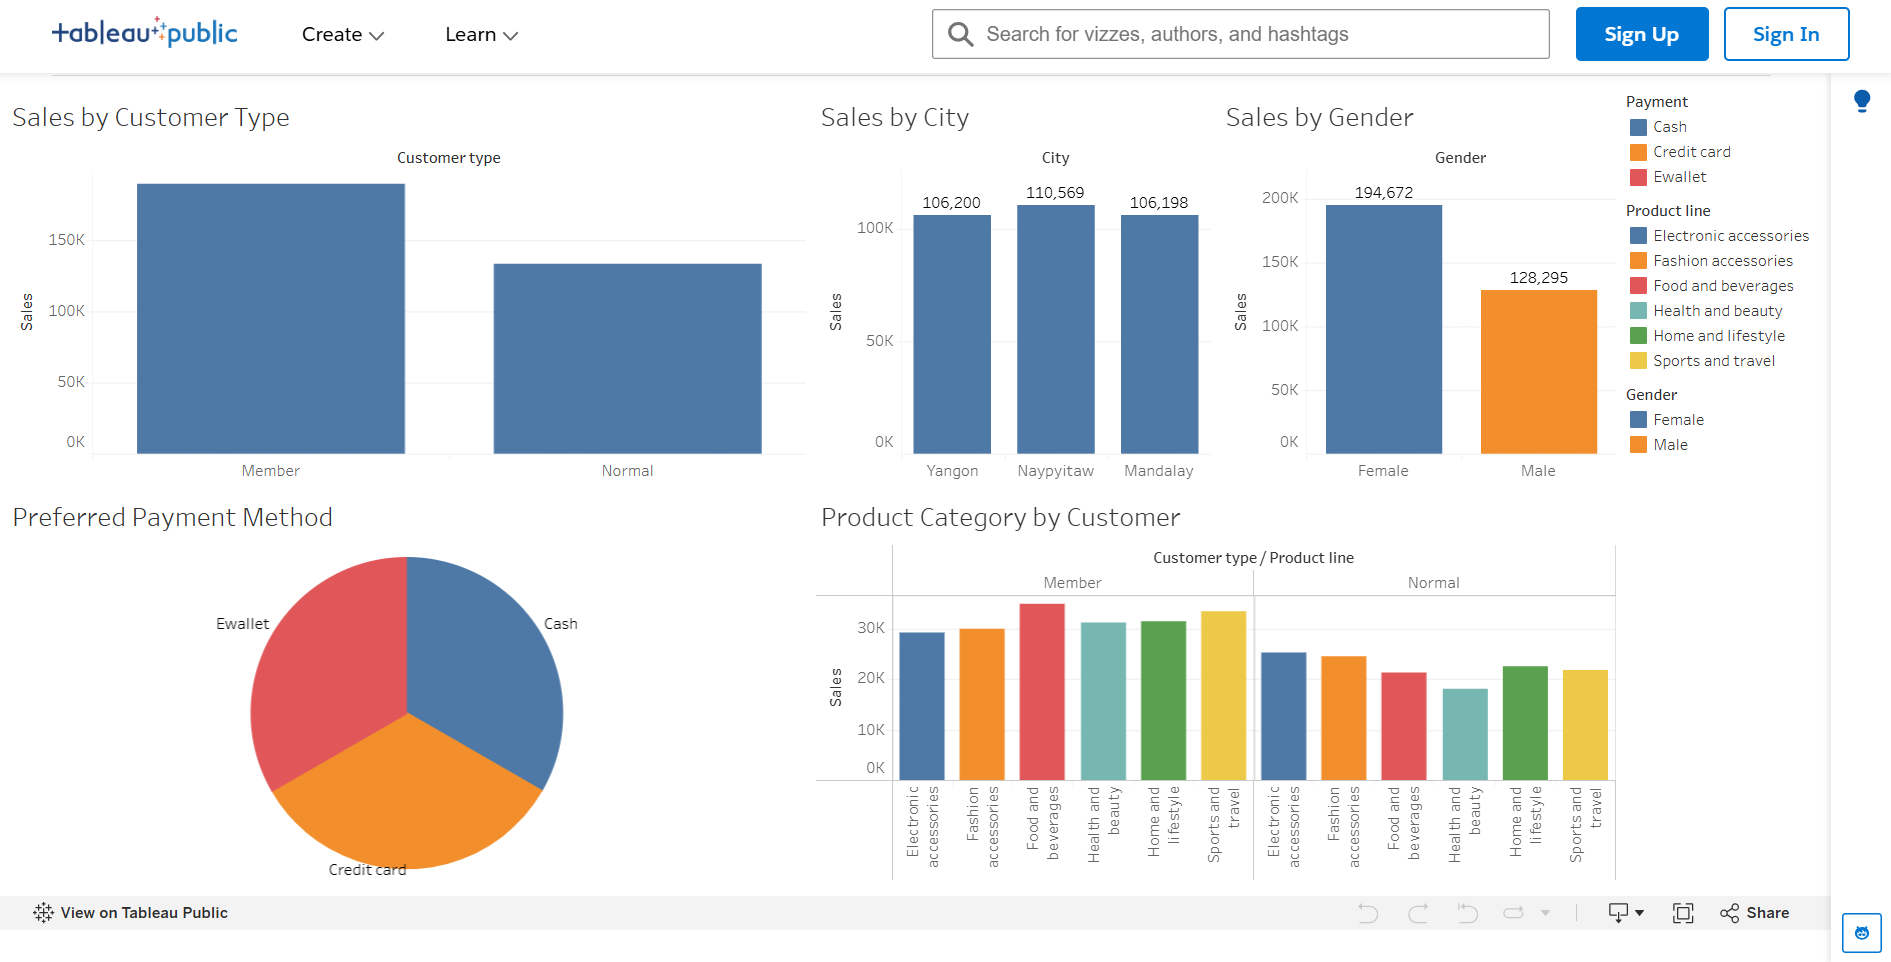

This screenshot's page, from the dashboard's own definition file:
{"tool":"tableau","page":{"name":"Dashboard 1","canvas":[1000,1000],"units":"permille","ordinal":0},"visuals":[{"type":"worksheet","title":"Sales by Customer Type","mark":"Automatic","rows":["Sales"],"cols":["Customer type"],"box":[4.8,8.8,446.9,491.2]},{"type":"worksheet","title":"Sales by City","mark":"Automatic","rows":["Sales"],"cols":["City"],"box":[451.7,8.8,223.5,491.2]},{"type":"worksheet","title":"Sales by Gender","mark":"Automatic","rows":["Sales"],"cols":["Gender"],"box":[675.2,8.8,223.4,491.2]},{"type":"legend","title":"Preferred Payment Method","param":"[federated.0dqlde91w7abh21gptwvj12ha1o2].[none:Payment:nk]","box":[898.6,8.8,96.6,102.1]},{"type":"legend","title":"Product Category by Customer","param":"[federated.0dqlde91w7abh21gptwvj12ha1o2].[none:Product line:nk]","box":[898.6,110.9,96.6,171.2]},{"type":"legend","title":"Sales by Gender","param":"[federated.0dqlde91w7abh21gptwvj12ha1o2].[none:Gender:nk]","box":[898.6,282.1,96.6,79]},{"type":"worksheet","title":"Preferred Payment Method","mark":"Pie","box":[4.8,500,446.9,491.2]},{"type":"worksheet","title":"Product Category by Customer","mark":"Automatic","rows":["Sales"],"cols":["Customer type","Product line"],"box":[451.7,500,446.9,491.2]}]}

Visuals, with their boxes on the dashboard's canvas, which has no fixed pixel size, in thousandths of its width and height (x1, y1, x2, y2). These are canvas units, not pixel positions in the 1891x962 screenshot, which may show the page scaled, cropped or inside an application window:
"Sales by Customer Type" worksheet: <region>5, 9, 452, 500</region>
"Sales by City" worksheet: <region>452, 9, 675, 500</region>
"Sales by Gender" worksheet: <region>675, 9, 899, 500</region>
"Preferred Payment Method" legend: <region>899, 9, 995, 111</region>
"Product Category by Customer" legend: <region>899, 111, 995, 282</region>
"Sales by Gender" legend: <region>899, 282, 995, 361</region>
"Preferred Payment Method" worksheet (Pie marks): <region>5, 500, 452, 991</region>
"Product Category by Customer" worksheet: <region>452, 500, 899, 991</region>
